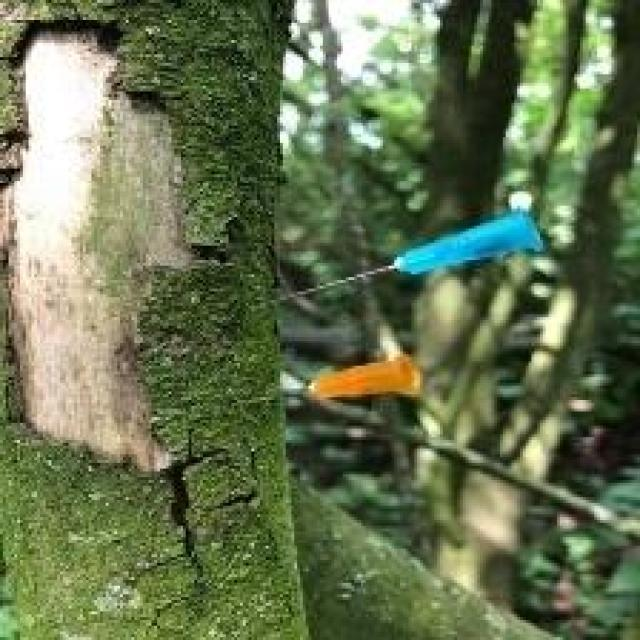syringe: (279, 186, 572, 438)
